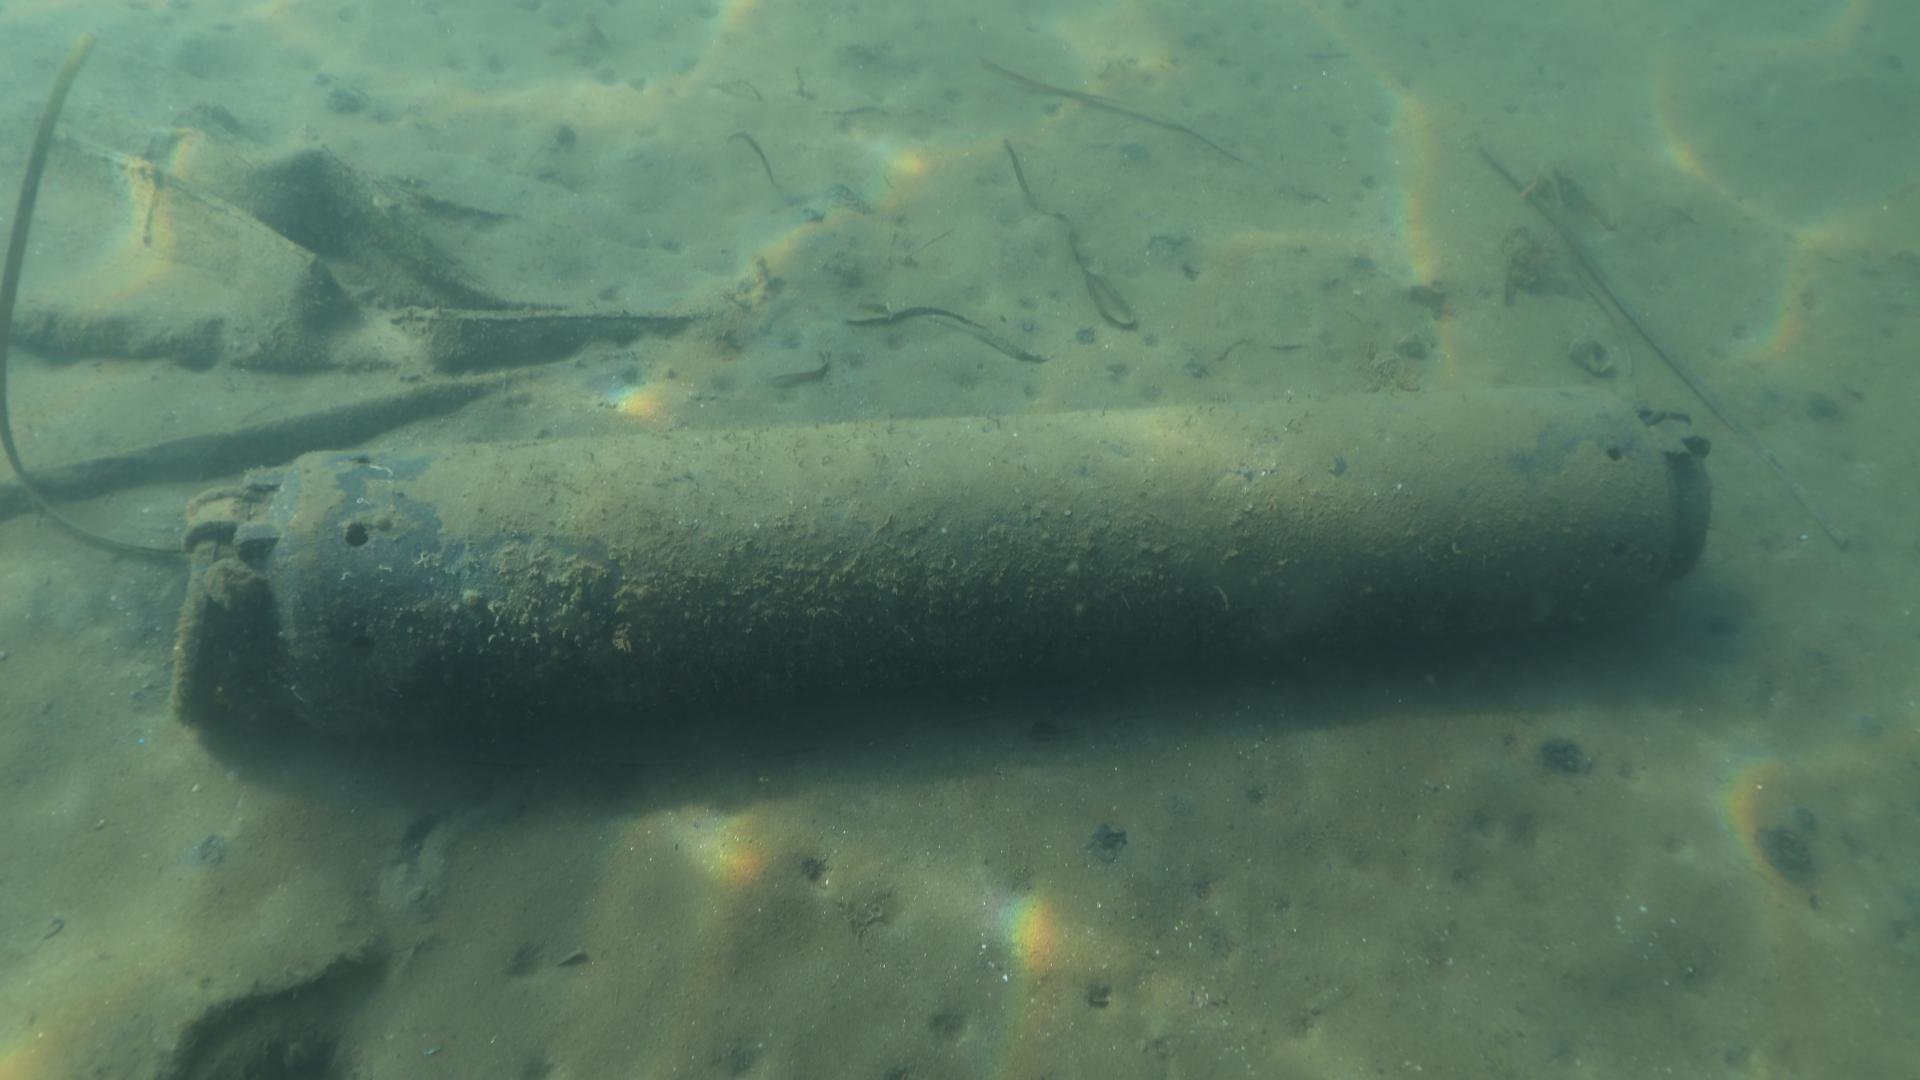eel fish trap: (178, 382, 1712, 746)
